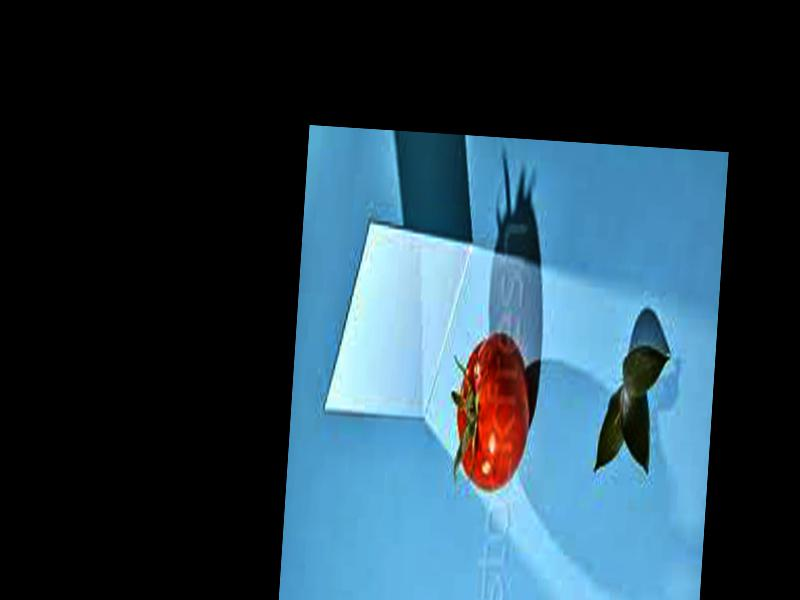Tomato: (451, 330, 535, 497)
